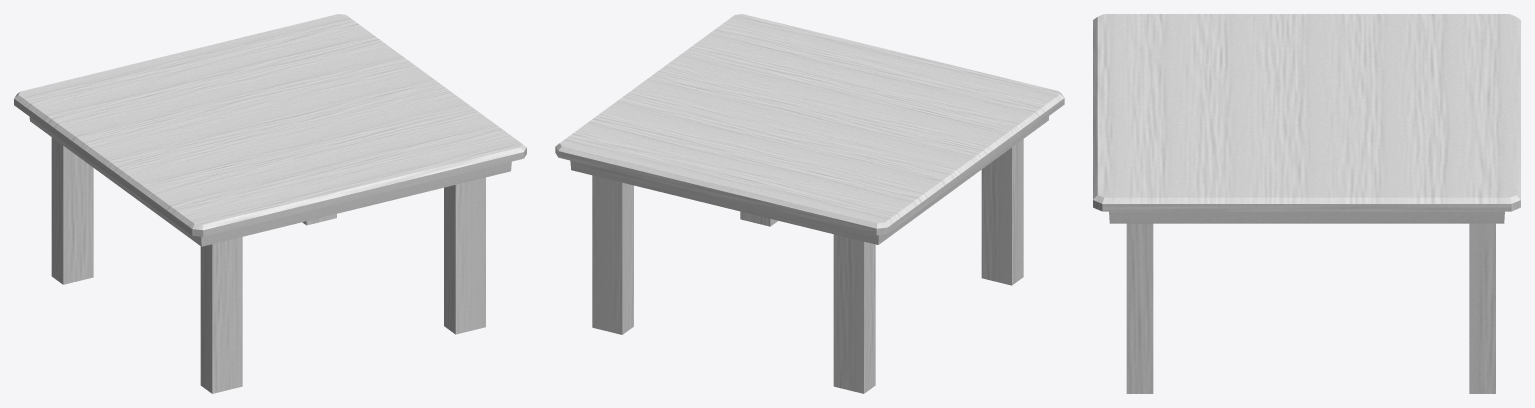
The model's file is Square Table_B.FBX.
3 views of the same model, side by side, from view 1: azimuth 30°, elevation 25°; view 2: azimuth 150°, elevation 25°; view 3: azimuth 270°, elevation 25° (orthographic). The views are drawn at different scales.
Visible parts, largest first — view 1: Square Table; view 2: Square Table; view 3: Square Table.
Boxes of the visible parts, box(x1,y1,x2,y2) form: Square Table: box(14, 14, 526, 393); Square Table: box(555, 14, 1064, 393); Square Table: box(1093, 14, 1520, 393).
Bounding box in the file's own units: 264 × 138 × 254.
